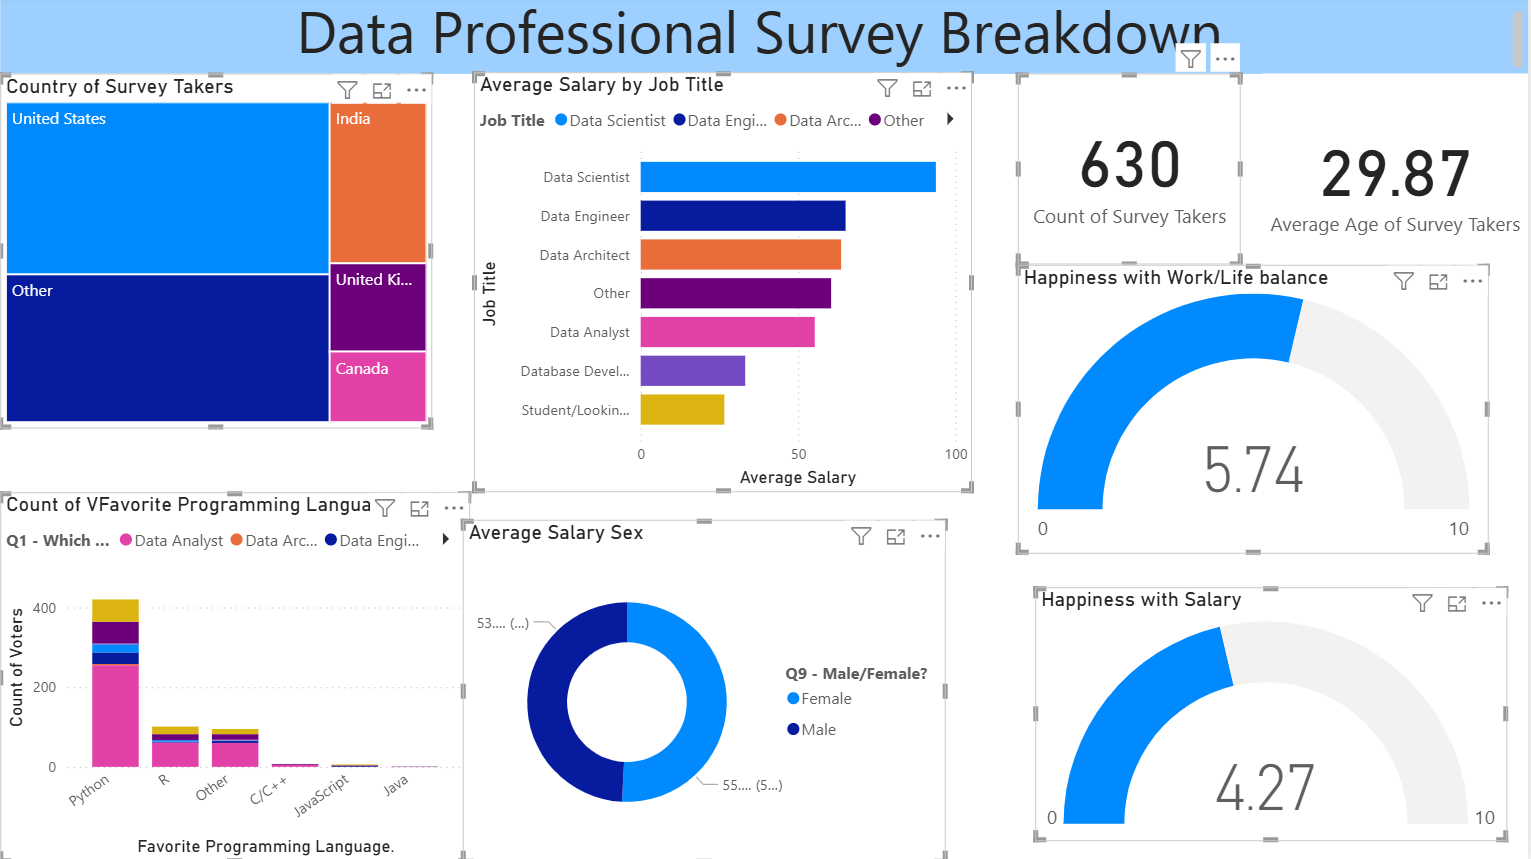

This screenshot's page, from the dashboard's own definition file:
{"tool":"powerbi","page":{"name":"Page 1","canvas":[1280,720],"ordinal":0},"visuals":[{"type":"textbox","box":[9.6,0,1270.7,64.5],"z":0},{"type":"card","fields":{"Values":["Count(Data Professional Survey.Unique ID)"]},"box":[854.9,64.5,186.6,159.2],"z":1000},{"type":"card","fields":{"Values":["Avg(Data Professional Survey.Q10 - Current Age)"]},"box":[1059.4,64.5,220.9,172.9],"z":2000},{"type":"barChart","title":"Average Salary by Job Title","fields":{"Category":["Data Professional Survey.Q1 - Which Title Best Fits your Current Role?.1"],"Y":["Avg(Data Professional Survey.Average Salary)"],"Series":["Data Professional Survey.Q1 - Which Title Best Fits your Current Role?.1"]},"box":[402.8,63.4,415.5,349.3],"z":3000},{"type":"columnChart","title":"Count of VFavorite Programming Language.","fields":{"Category":["Data Professional Survey.Q5 - Favorite Programming Language.1"],"Y":["CountNonNull(Data Professional Survey.Unique ID)"],"Series":["Data Professional Survey.Q1 - Which Title Best Fits your Current Role?.1"]},"box":[9.9,412.7,390.1,307],"z":4000},{"type":"treemap","title":"Country of Survey Takers","fields":{"Group":["Data Professional Survey.Q11 - Which Country do you live in?.1"],"Values":["CountNonNull(Data Professional Survey.Q11 - Which Country do you live in?.1)"]},"box":[9.6,64.5,359.5,295],"z":5000},{"type":"gauge","title":"Happiness with Work/Life balance","fields":{"Y":["Avg(Data Professional Survey.Q6 - How Happy are you in your Current Position with the following? (Work/Life Balance))"],"MinValue":["Min(Data Professional Survey.Q6 - How Happy are you in your Current Position with the following? (Work/Life Balance))1"],"MaxValue":["Max(Data Professional Survey.Q6 - How Happy are you in your Current Position with the following? (Work/Life Balance))2"]},"box":[854.9,223.7,392.5,240.1],"z":6000},{"type":"gauge","title":"Happiness with Salary","fields":{"Y":["Avg(Data Professional Survey.Q6 - How Happy are you in your Current Position with the following? (Salary))"],"MinValue":["Min(Data Professional Survey.Q6 - How Happy are you in your Current Position with the following? (Salary))"],"MaxValue":["Max(Data Professional Survey.Q6 - How Happy are you in your Current Position with the following? (Salary))"]},"box":[870,491.3,392.5,211.3],"z":7000},{"type":"donutChart","title":"Average Salary Sex","fields":{"Category":["Data Professional Survey.Q9 - Male/Female?"],"Y":["Avg(Data Professional Survey.Average Salary)"]},"box":[394.4,435.2,401.4,284.5],"z":8000}]}

Visuals, with their boxes in screenshot pixels (x1, y1, x2, y2), scaled from the page's 1280x720 canvas onto the 1531x859 screenshot:
textbox: <bbox>11, 0, 1530, 77</bbox>
card - Count(Data Professional Survey.Unique ID): <bbox>1023, 77, 1246, 267</bbox>
card - Avg(Data Professional Survey.Q10 - Current Age): <bbox>1267, 77, 1530, 283</bbox>
"Average Salary by Job Title" barChart: <bbox>482, 76, 979, 492</bbox>
"Count of VFavorite Programming Language." columnChart: <bbox>12, 492, 478, 858</bbox>
"Country of Survey Takers" treemap: <bbox>11, 77, 441, 429</bbox>
"Happiness with Work/Life balance" gauge: <bbox>1023, 267, 1492, 553</bbox>
"Happiness with Salary" gauge: <bbox>1041, 586, 1510, 838</bbox>
"Average Salary Sex" donutChart: <bbox>472, 519, 952, 858</bbox>
